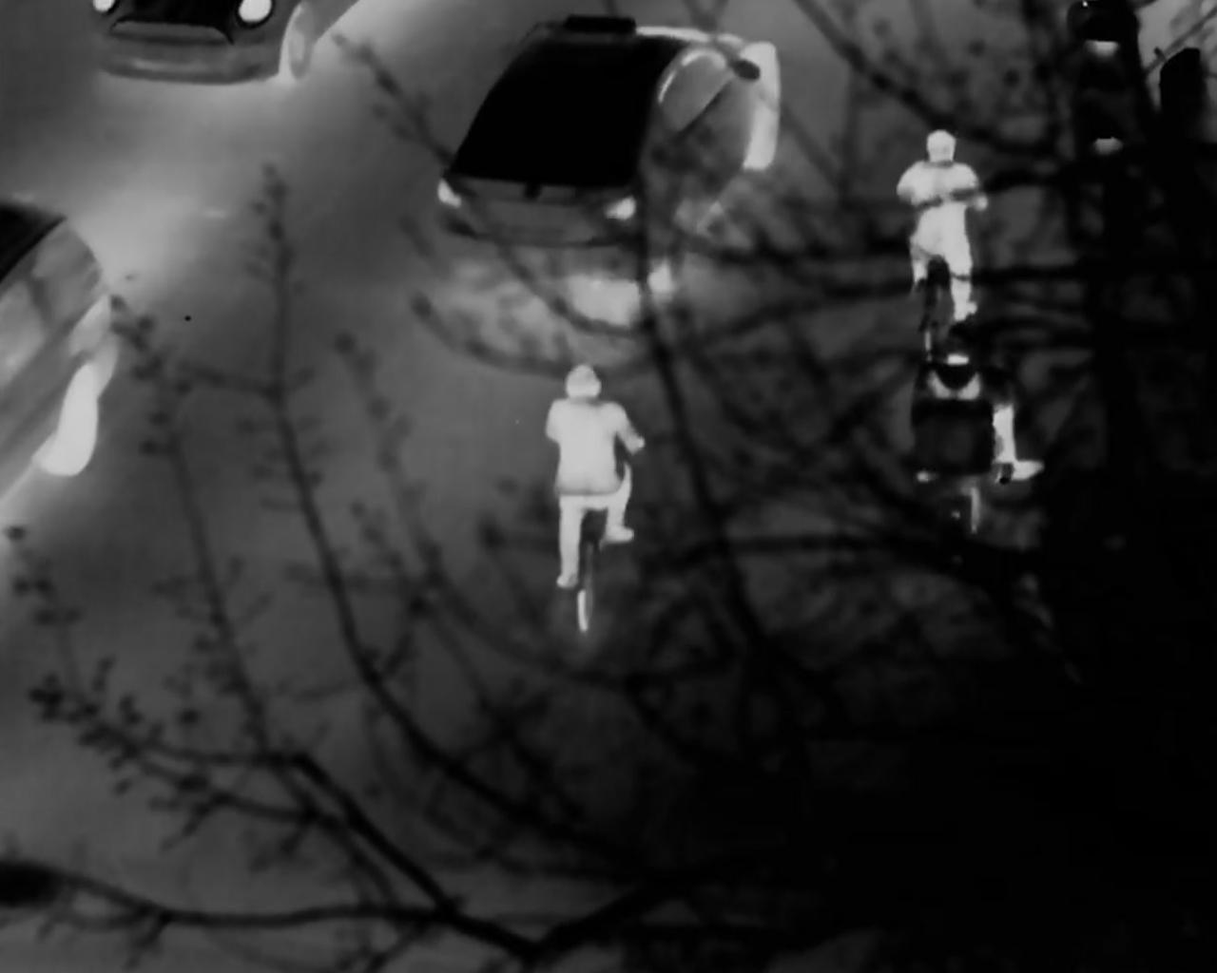person: (914, 289, 1043, 496), (545, 362, 649, 573), (897, 128, 992, 339)
